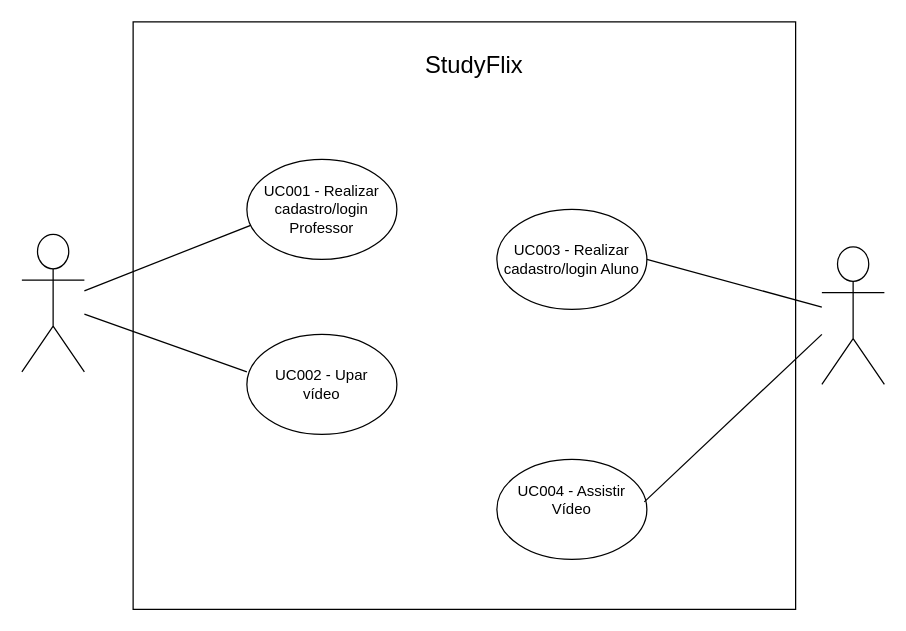
Image size: 906x631. Some labels were removed from this diagram. The box of each missing label's shape, as (x1, y1, x2, y2) in pixels:
Aluno: (821, 246, 884, 384)
Professor: (21, 233, 84, 372)
